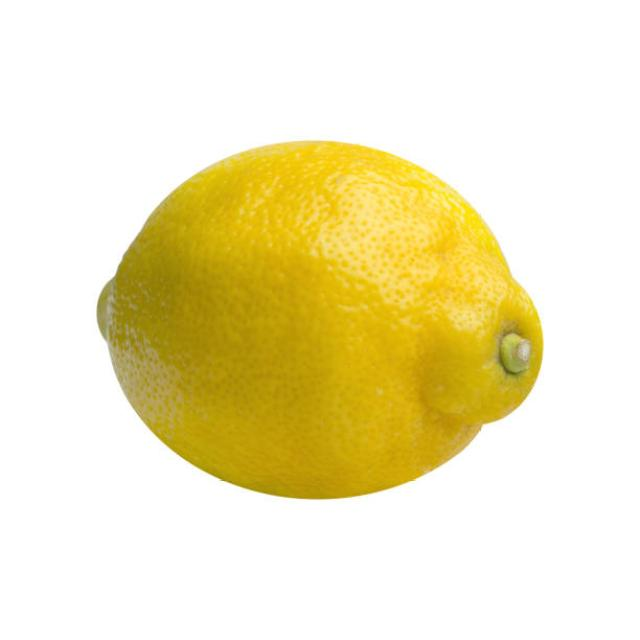Lemon: (96, 138, 545, 502)
